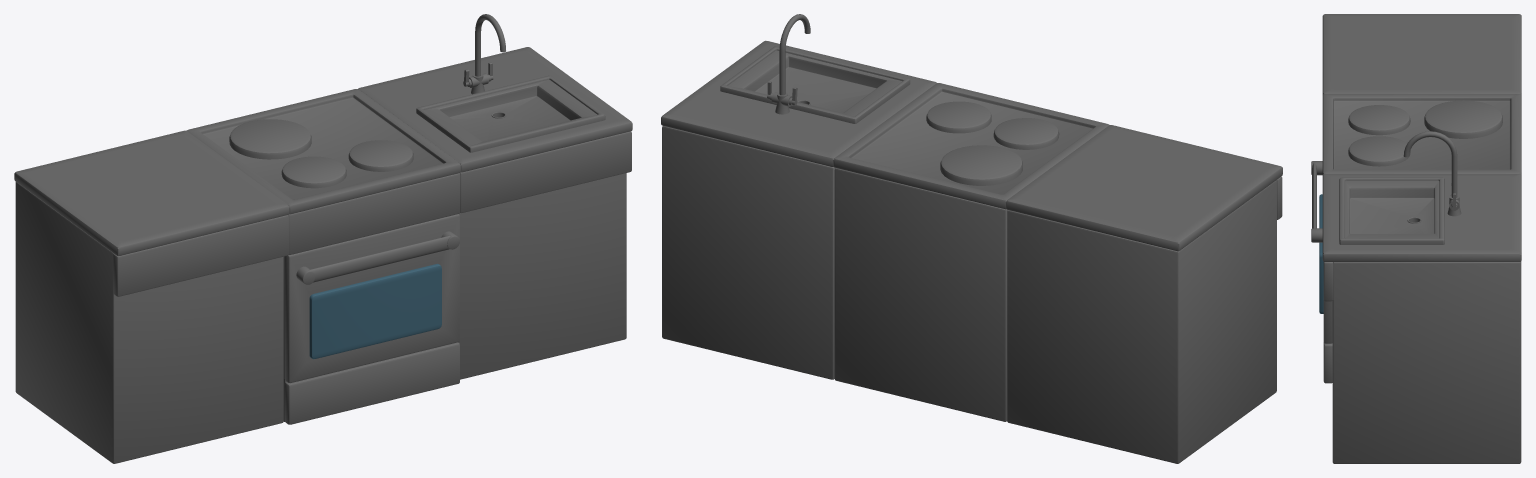
The picture shows the model from 3 angles, left to right: view 1: azimuth 30°, elevation 25°; view 2: azimuth 150°, elevation 25°; view 3: azimuth 270°, elevation 25°; orthographic projection. The views are drawn at different scales.
Visible parts, largest first — view 1: Kitchen_Surface, Oven, Sink; view 2: Kitchen_Surface, Sink, Oven; view 3: Sink, Oven, Kitchen_Surface.
Boxes of the visible parts, bbox=[...] form: Kitchen_Surface: bbox=[14, 130, 289, 463]; Oven: bbox=[186, 89, 460, 424]; Sink: bbox=[358, 14, 632, 379]; Kitchen_Surface: bbox=[1006, 125, 1282, 463]; Sink: bbox=[661, 14, 936, 379]; Oven: bbox=[833, 83, 1109, 421]; Sink: bbox=[1322, 131, 1521, 463]; Oven: bbox=[1311, 94, 1521, 383]; Kitchen_Surface: bbox=[1322, 14, 1521, 95].
Bounding box in the file's own units: 2.9 × 1.65 × 1.07.
